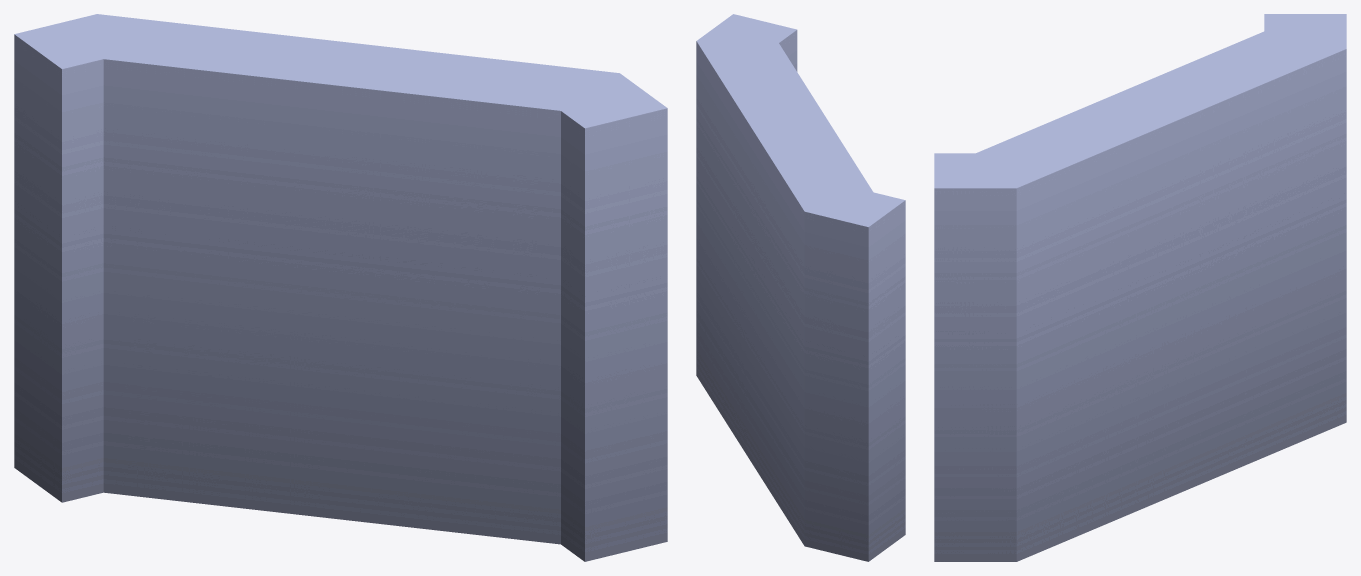
Rendered from wall-diagonal.glb.
3 renders of one model, left to right at view 1: azimuth 30°, elevation 25°; view 2: azimuth 150°, elevation 25°; view 3: azimuth 270°, elevation 25°, orthographic. The views are drawn at different scales.
Parts seen in each view (by area): view 1: wall-diagonal; view 2: wall-diagonal; view 3: wall-diagonal.
Boxes of the visible parts, x1=… form: wall-diagonal: x1=14, y1=14, x2=667, y2=561; wall-diagonal: x1=696, y1=14, x2=905, y2=561; wall-diagonal: x1=934, y1=14, x2=1346, y2=561.
Bounding box in the file's own units: 1 × 1 × 1.
Materials: 1 (1 with a texture image).
